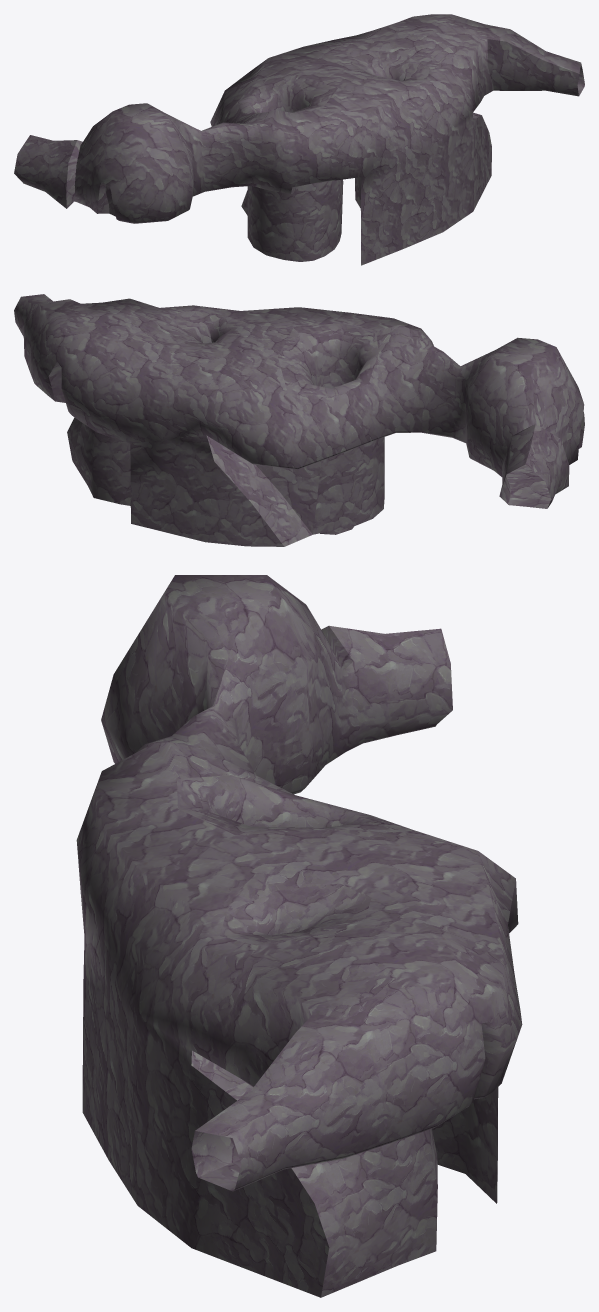
File: lvl_02.FBX
The picture shows the model from 3 angles, top to bottom: view 1: azimuth 30°, elevation 25°; view 2: azimuth 150°, elevation 25°; view 3: azimuth 270°, elevation 25°; orthographic projection. The views are drawn at different scales.
Parts seen in each view (by area): view 1: lvl2_mesh; view 2: lvl2_mesh; view 3: lvl2_mesh.
Boxes of the visible parts, box(x1,y1,x2,y2) form: lvl2_mesh: box(14, 14, 584, 265); lvl2_mesh: box(14, 294, 584, 546); lvl2_mesh: box(76, 575, 522, 1297).
Size of the model in its own units: 4774 by 1577 by 1760.
1 material, 1 textured.
